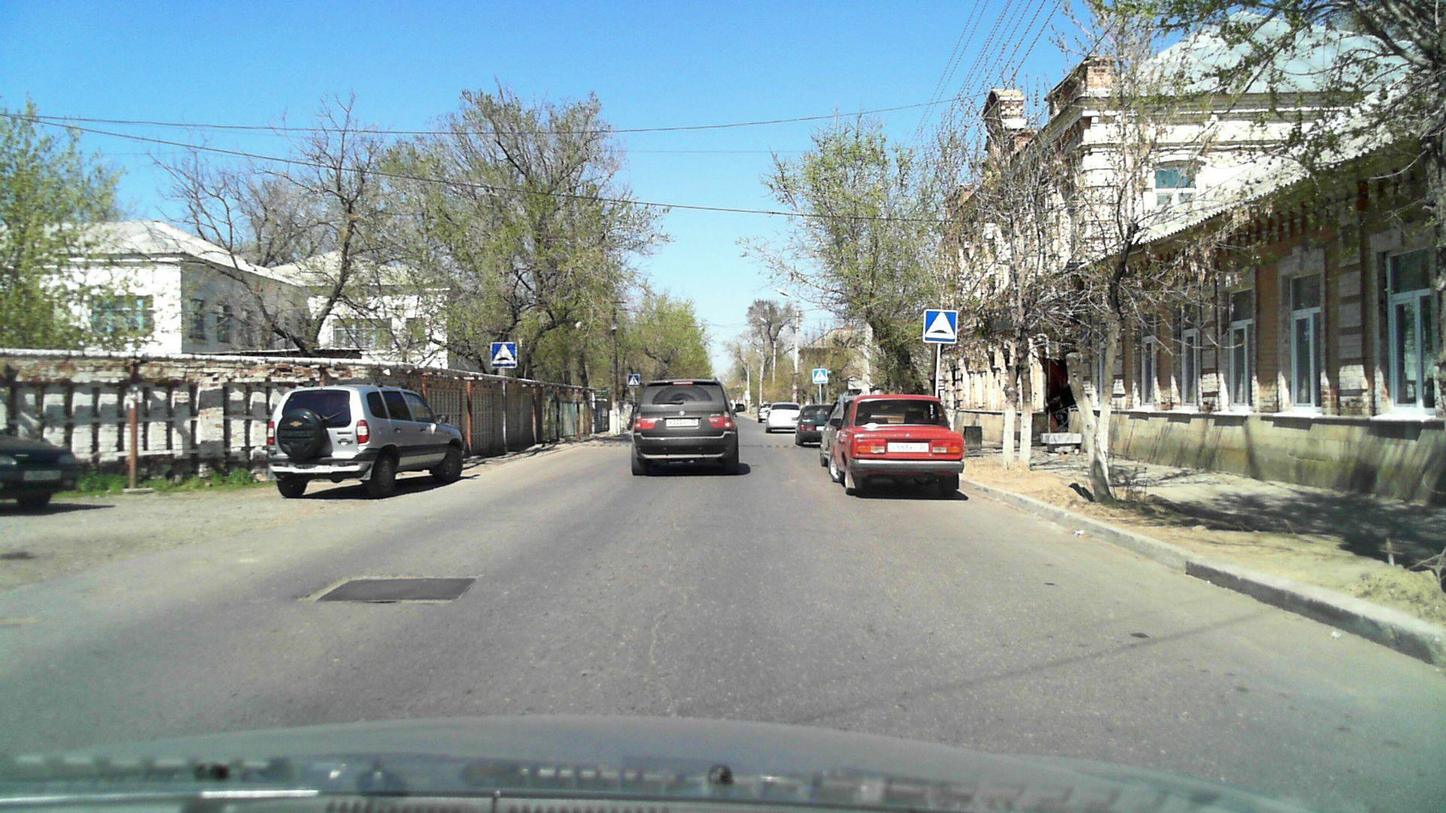road_sign: (923, 309, 956, 344), (490, 342, 517, 369)
